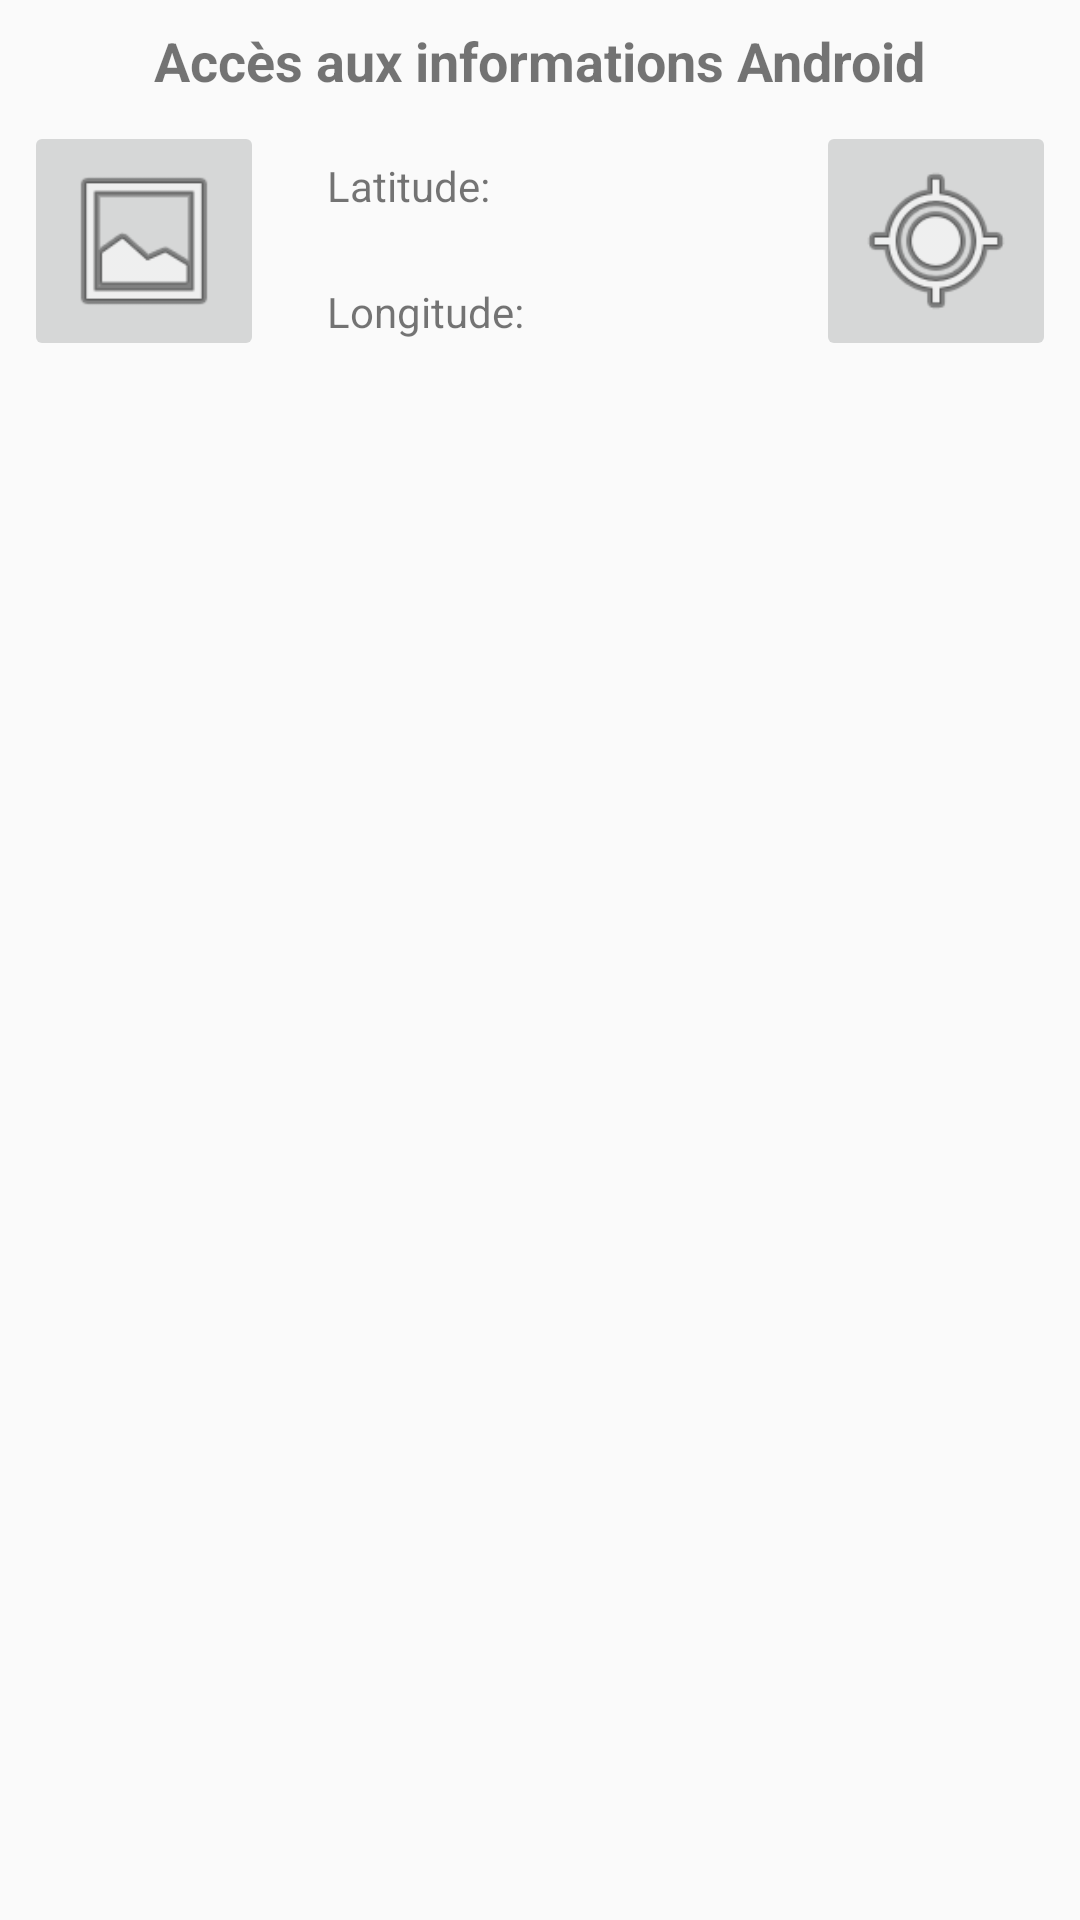

Locate icon controls on the screen. Image size 1080px×1920px, boxes as detection(x1, y1, x2, y2).
A button to get your location: detection(828, 139, 1044, 343)
gallery: detection(36, 139, 252, 343)
